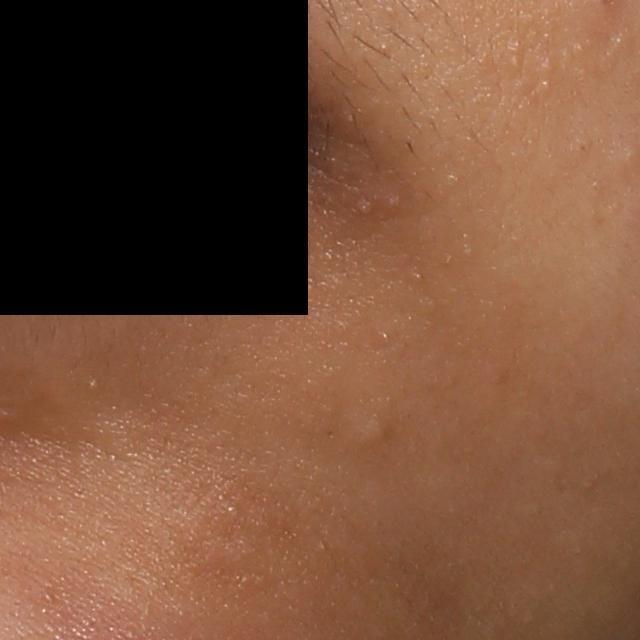comedo: (621, 144, 640, 167)
